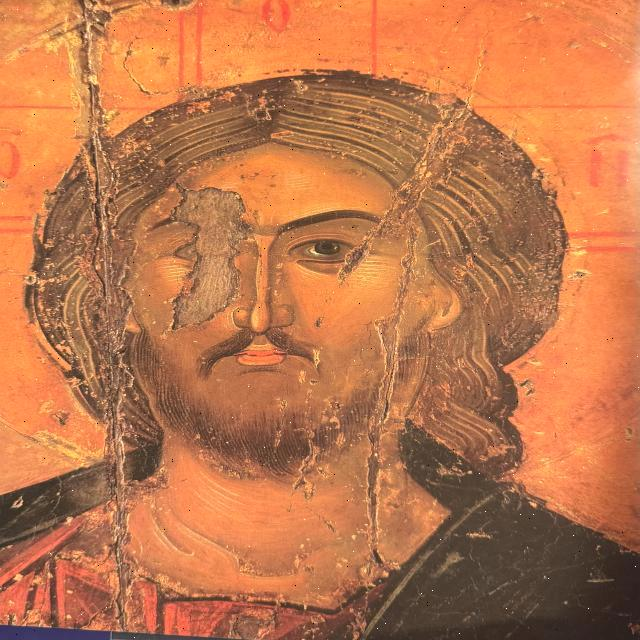christ: (2, 2, 640, 638)
